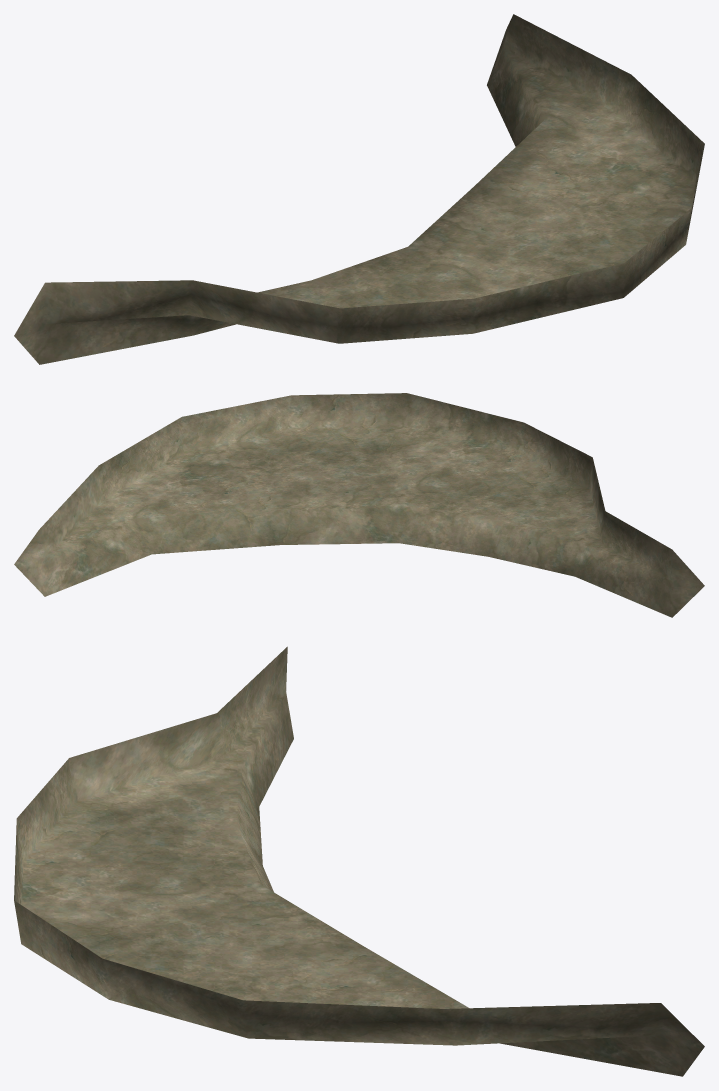
File: EKH_THRONE_PS_TH_LINE29.fbx
3 views of the same model, one above another, from view 1: azimuth 30°, elevation 25°; view 2: azimuth 150°, elevation 25°; view 3: azimuth 270°, elevation 25° (orthographic). The views are drawn at different scales.
Parts seen in each view (by area): view 1: EKH_THRONE_PS_TH_LINE29; view 2: EKH_THRONE_PS_TH_LINE29; view 3: EKH_THRONE_PS_TH_LINE29.
Boxes of the visible parts, x1=… form: EKH_THRONE_PS_TH_LINE29: x1=14, y1=14, x2=704, y2=364; EKH_THRONE_PS_TH_LINE29: x1=14, y1=393, x2=704, y2=617; EKH_THRONE_PS_TH_LINE29: x1=14, y1=646, x2=704, y2=1076.
Bounding box in the file's own units: 60996 × 7052 × 46959.
Materials: 1 (1 with a texture image).
